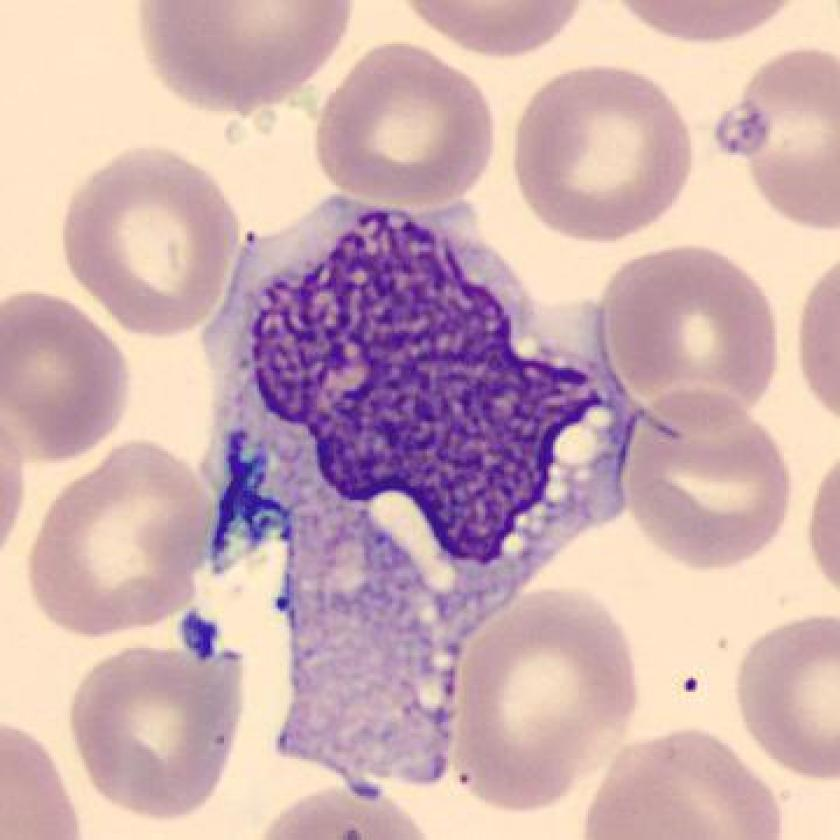monocyte: (188, 179, 687, 806)
